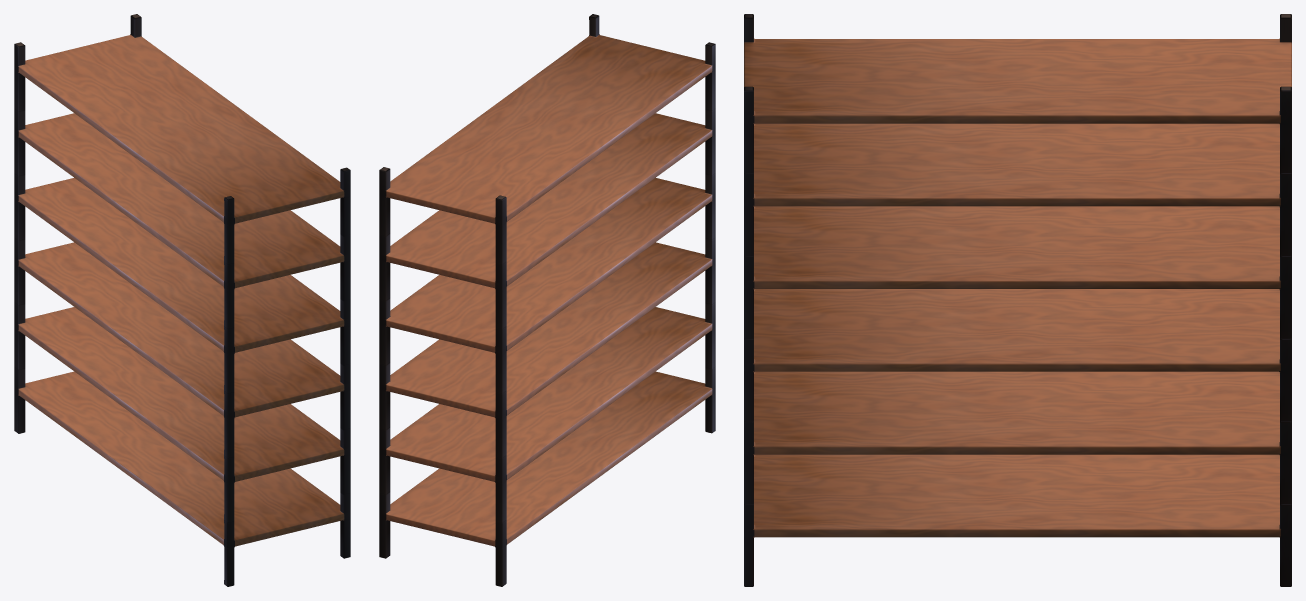
The model's file is shelf-model.glb.
3 views of the same model, side by side, from view 1: azimuth 30°, elevation 25°; view 2: azimuth 150°, elevation 25°; view 3: azimuth 270°, elevation 25° (orthographic). The views are drawn at different scales.
Visible parts, largest first — view 1: Shelves; view 2: Shelves; view 3: Shelves.
Part boxes in pixels (x1,y1,x2,y2): Shelves: (14, 14, 350, 586); Shelves: (379, 14, 715, 586); Shelves: (744, 14, 1291, 586).
Size of the model in its own units: 2 by 6 by 6.
2 materials, 2 textured.
